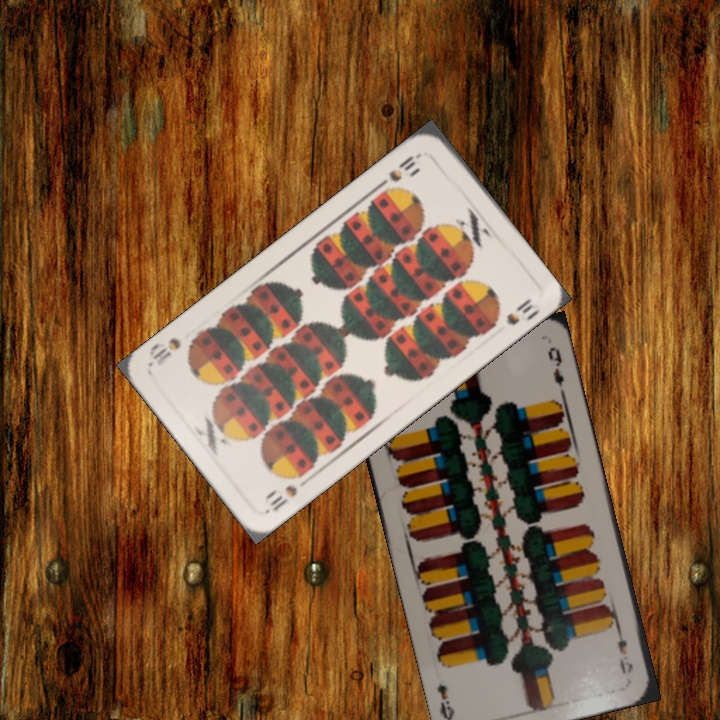E9: (612, 622, 636, 677)
S10: (261, 469, 307, 516), (384, 148, 424, 185)
